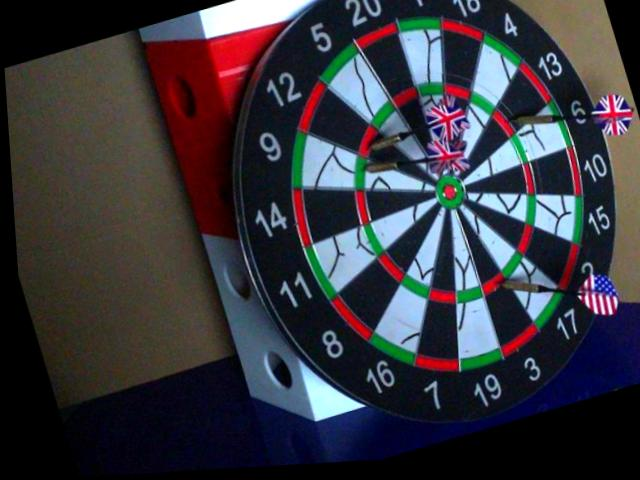triple_12: (361, 127, 377, 154)
triple_13: (492, 108, 516, 138)
triple_3: (484, 276, 502, 295)
triple_9: (354, 159, 365, 186)
